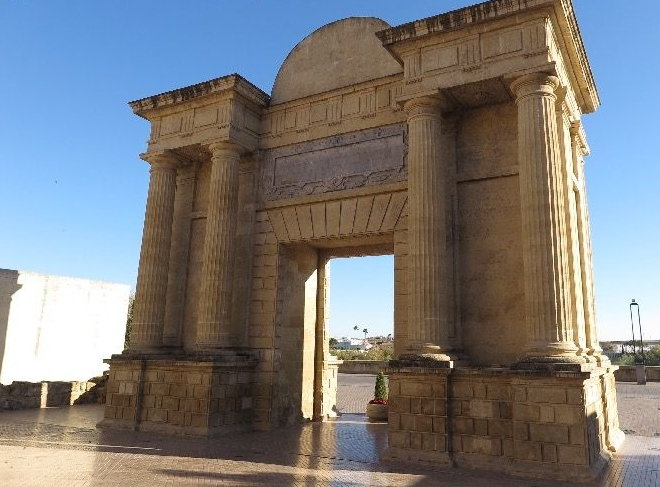vano-adintelado: (258, 221, 407, 434)
